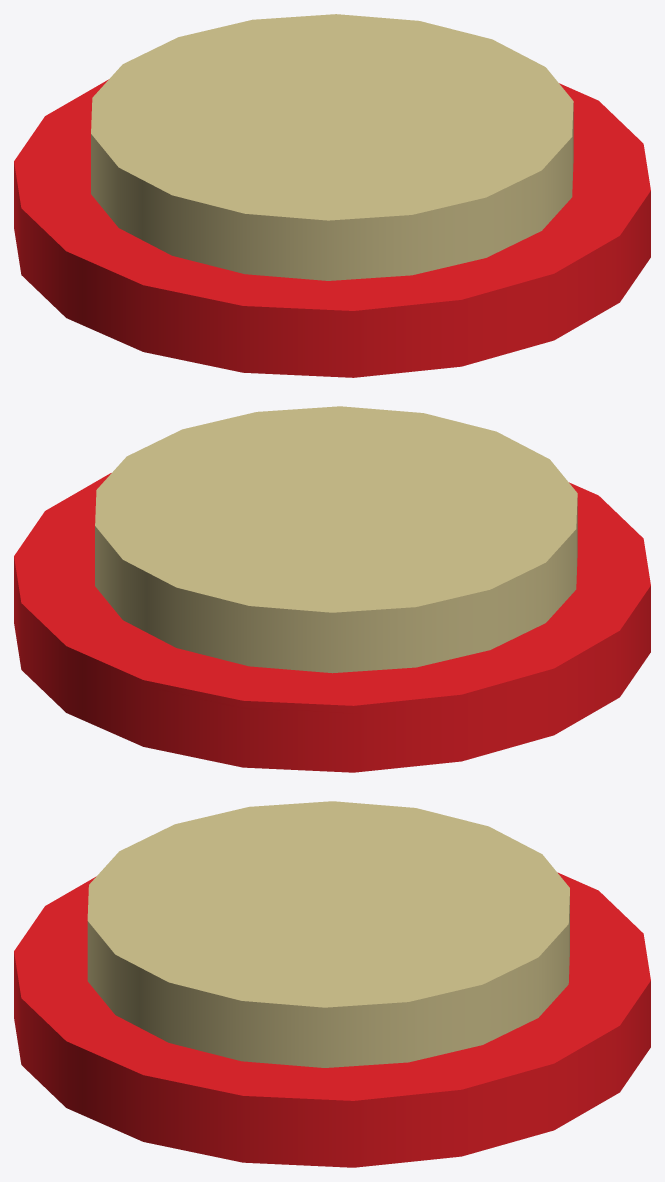
The model's file is Press_Gimmick_Button.FBX.
3 renders of one model, top to bottom at view 1: azimuth 30°, elevation 25°; view 2: azimuth 150°, elevation 25°; view 3: azimuth 270°, elevation 25°, orthographic.
Visible parts, largest first — view 1: Cylinder001, Cylinder002; view 2: Cylinder001, Cylinder002; view 3: Cylinder001, Cylinder002.
Boxes of the visible parts, x1,y1,x2,y2 form: Cylinder001: [91, 14, 573, 280]; Cylinder002: [14, 79, 650, 377]; Cylinder001: [95, 406, 577, 673]; Cylinder002: [14, 473, 650, 772]; Cylinder001: [87, 801, 569, 1067]; Cylinder002: [14, 872, 650, 1167].
Size of the model in its own units: 79.95 by 79.65 by 17.56.
Materials: 2 (2 with a texture image).
